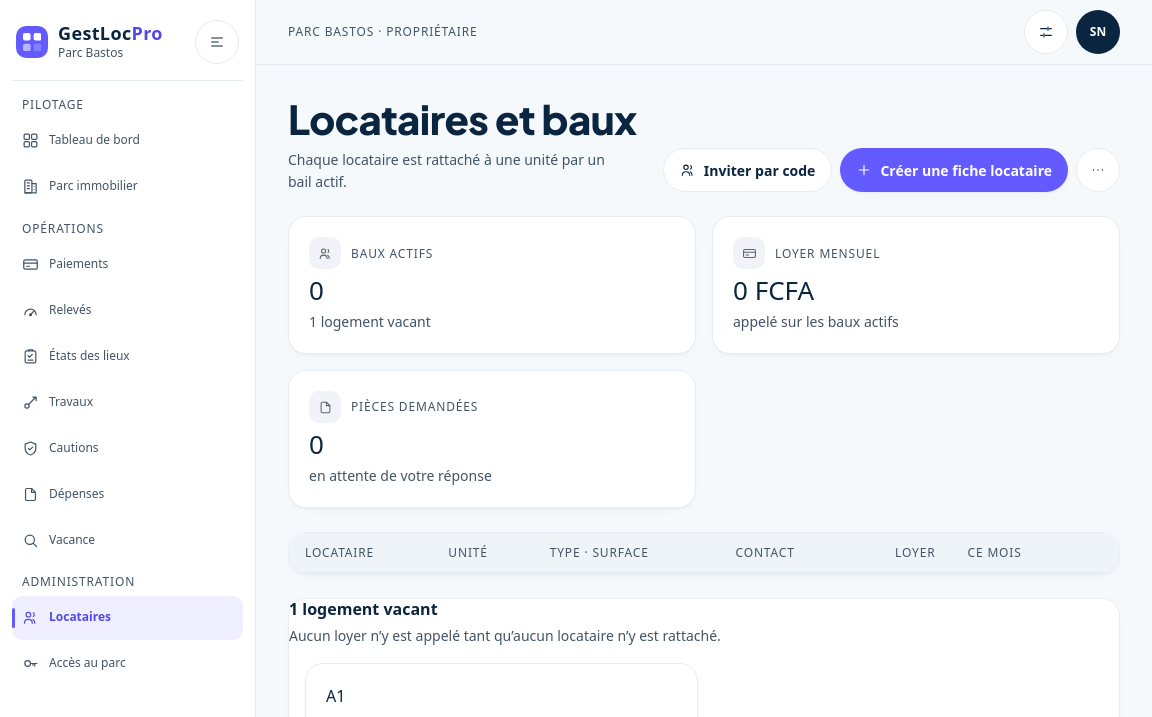
Test: création d’une fiche locataire refusée par le serveur › ne dit pas « créée » quand le serveur a dit non
Click the button "Créer une fiche locataire" at (954, 170), box [840,148,1068,192]
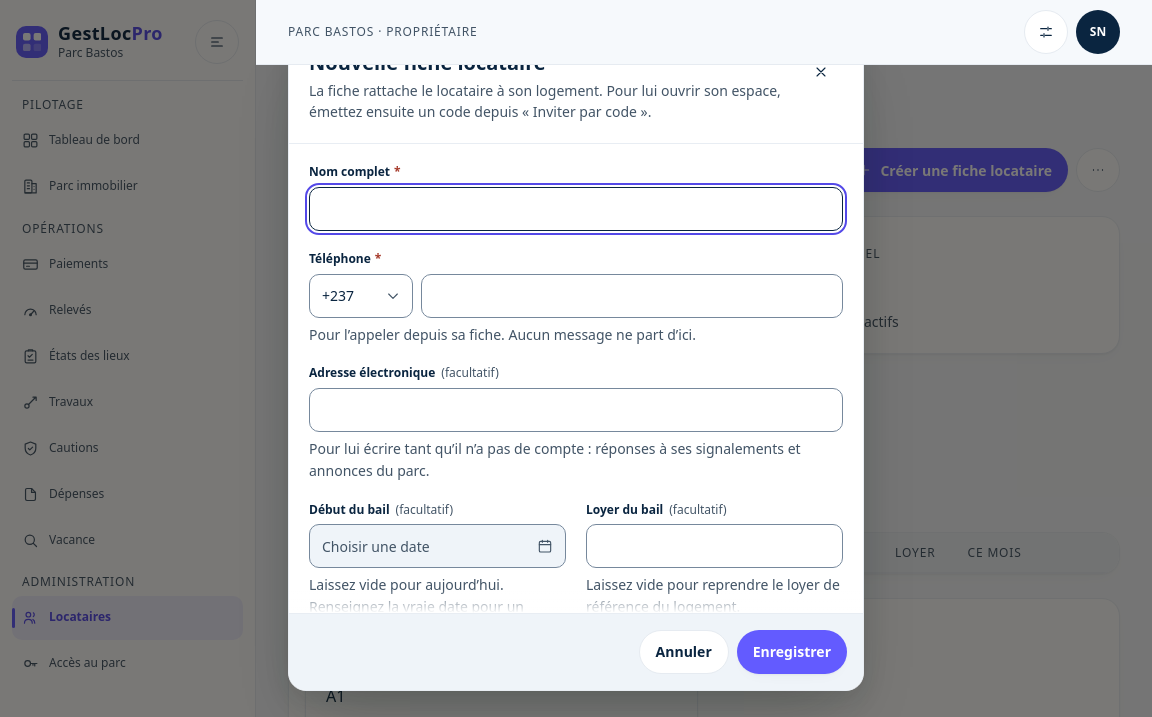
Type "Serge Mbarga" into the field labelled "Nom complet*" at (576, 209), box [309,187,843,231]
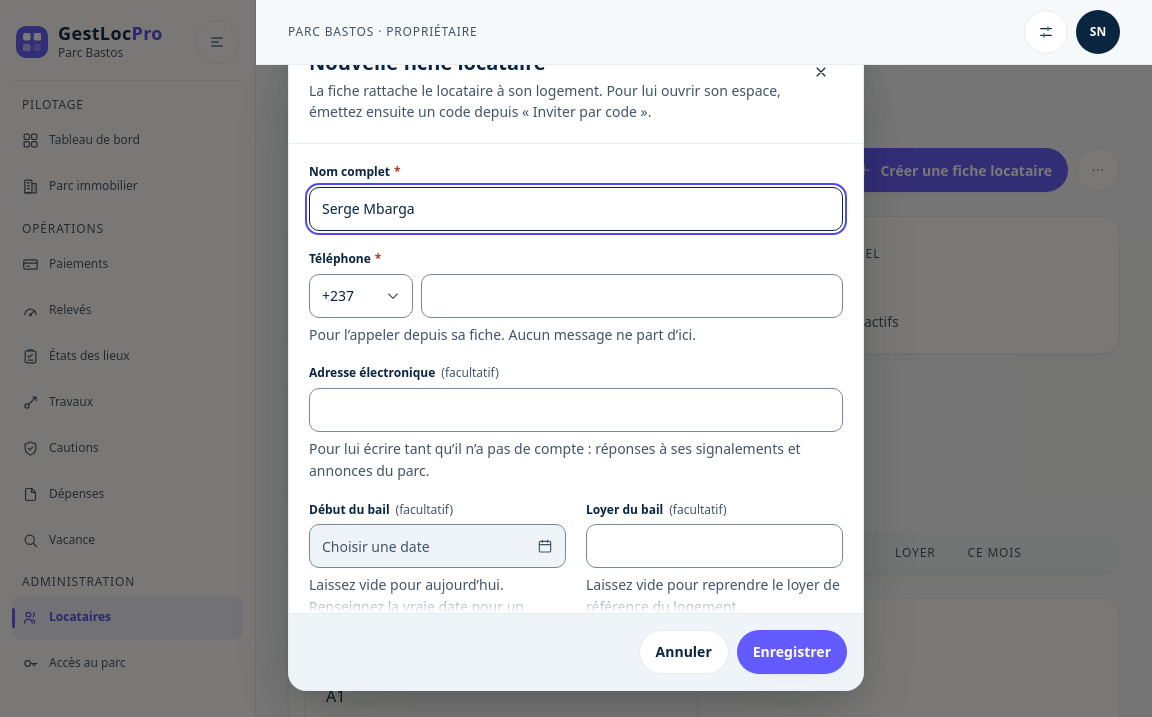
Type "677214408" into the field labelled "Téléphone*" at (632, 296), box [421,274,843,318]
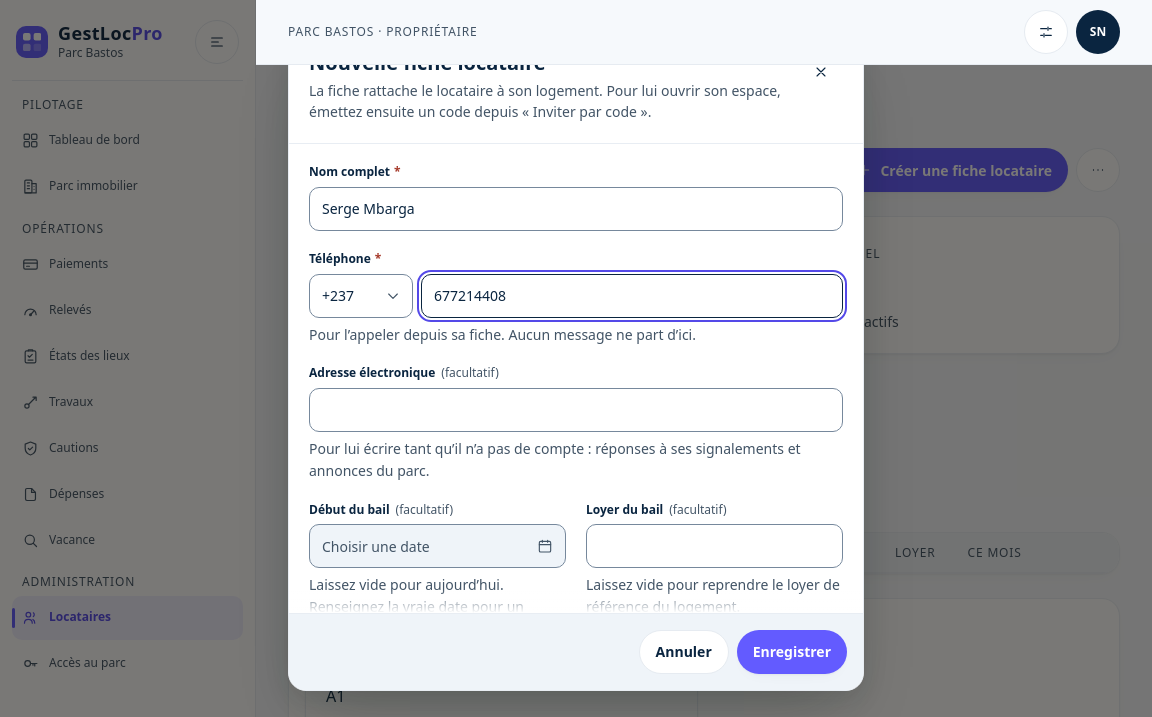
Click the button "Enregistrer" at (792, 652), box [737,630,847,674]
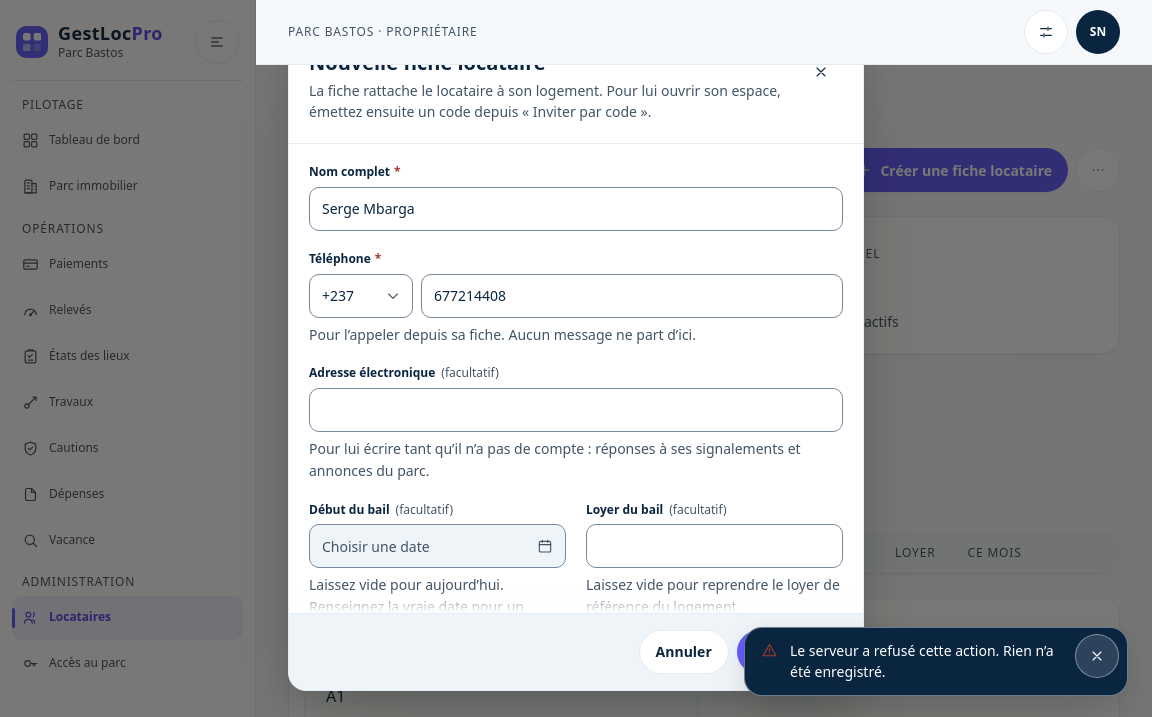
Check: the text "Le serveur a refusé cette action. Rien n’a été enregistré." is shown, box [790,640,1063,683]
